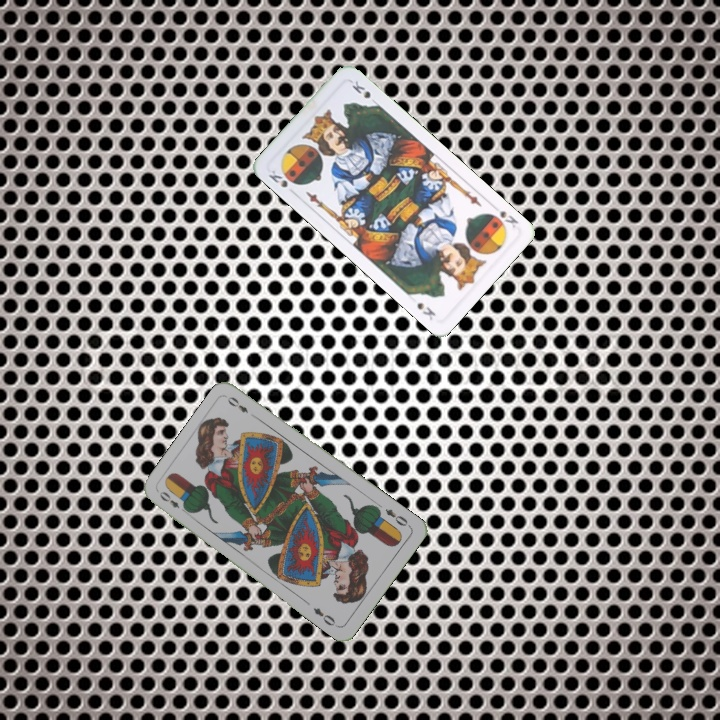EO: (155, 487, 191, 516), (381, 505, 413, 530)
SK: (487, 200, 521, 230), (264, 164, 290, 190)
